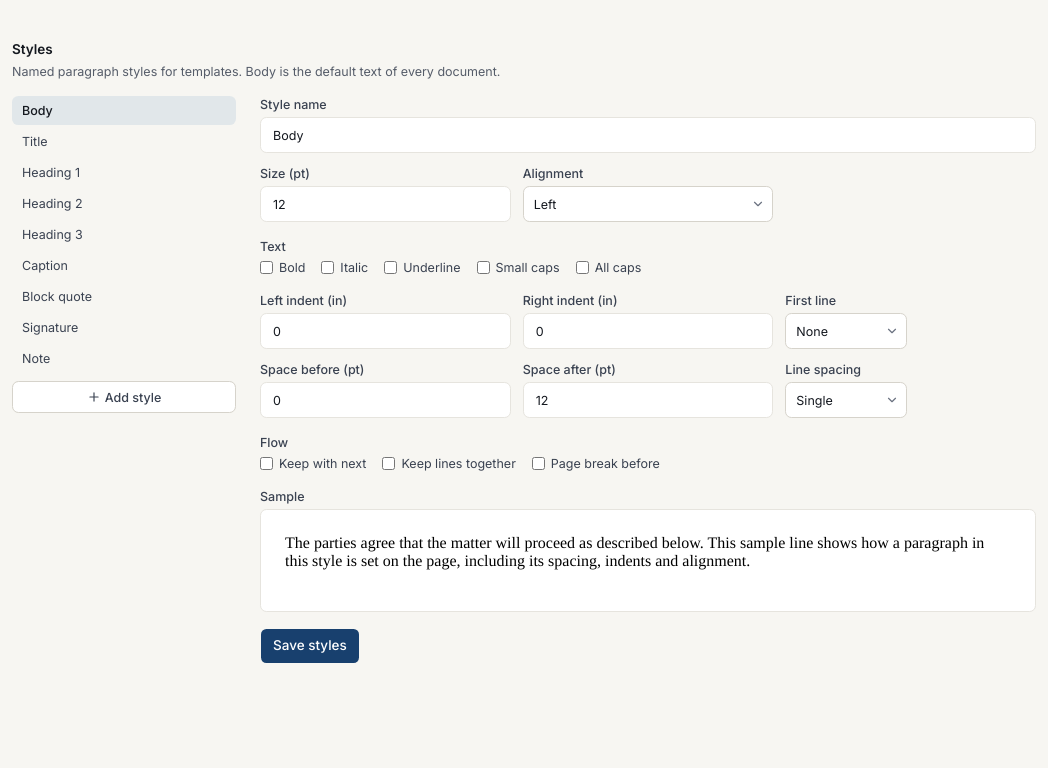
it: ParagraphStylesForm › renames built-in and custom styles
The image size is (1048, 768).
Step 1. Replace the text in the field labelled "Style name" with "Main text" → (648,135), box [260, 117, 1036, 153]
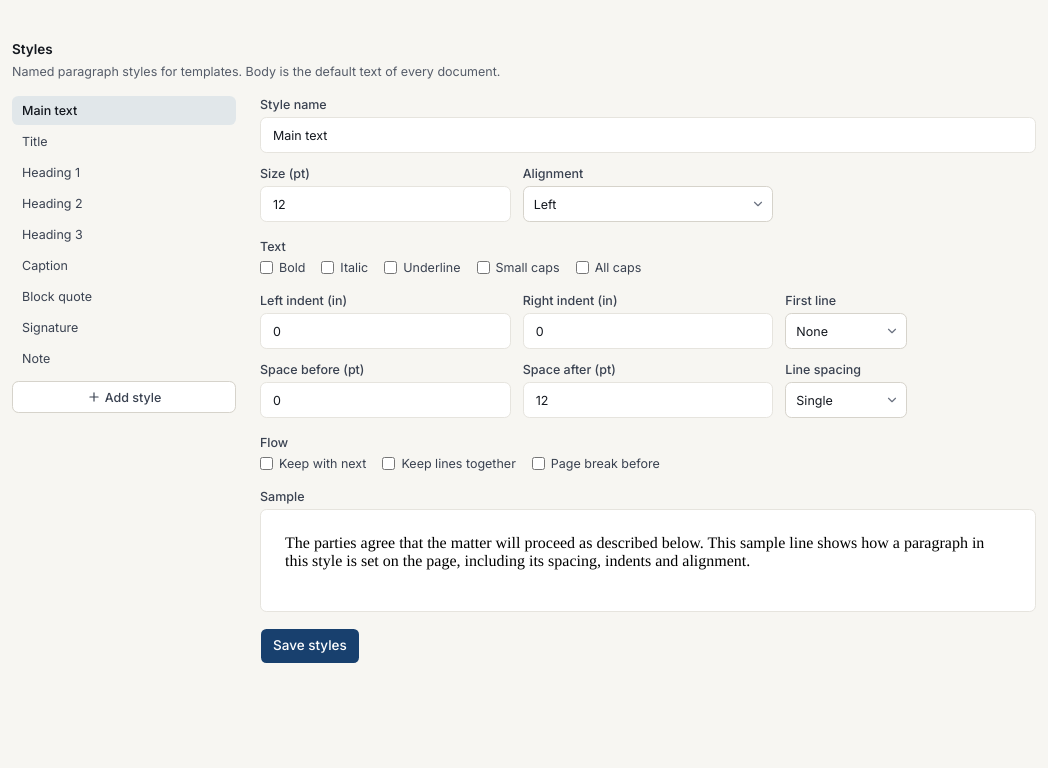
Expected: the button "Main text" is shown, [12, 96, 236, 125]
Step 2. Click the button "Note" → (124,358), box [12, 344, 236, 373]
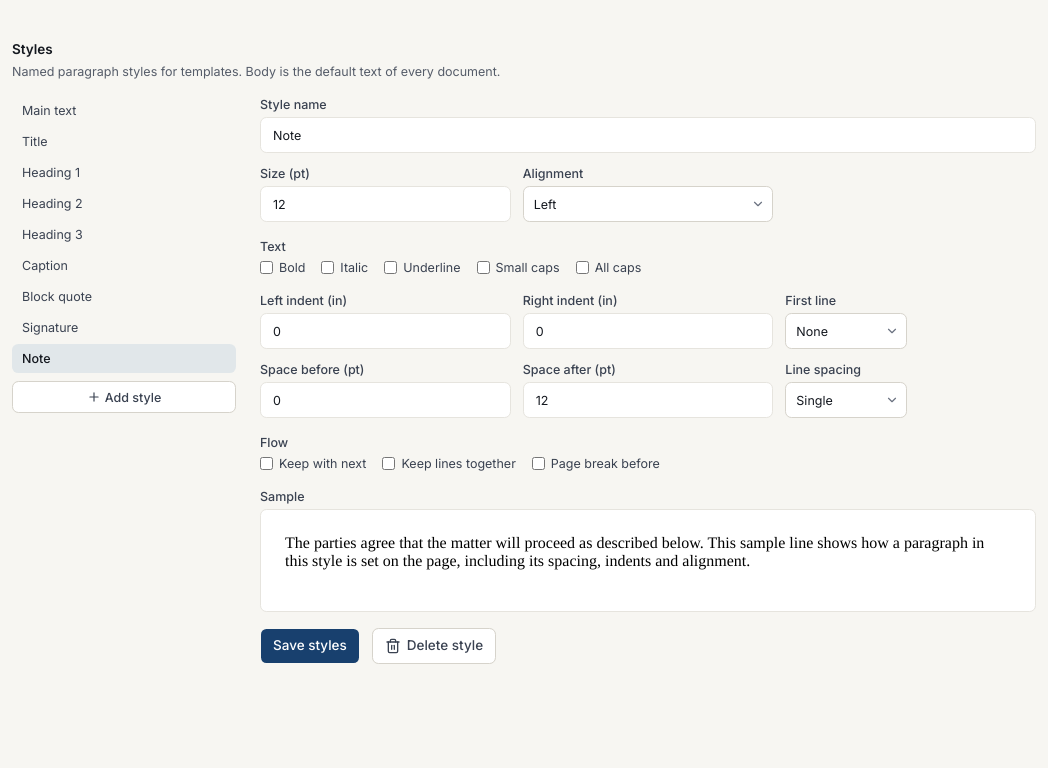
Step 3. Replace the text in the field labelled "Style name" with "Aside" → (648,135), box [260, 117, 1036, 153]
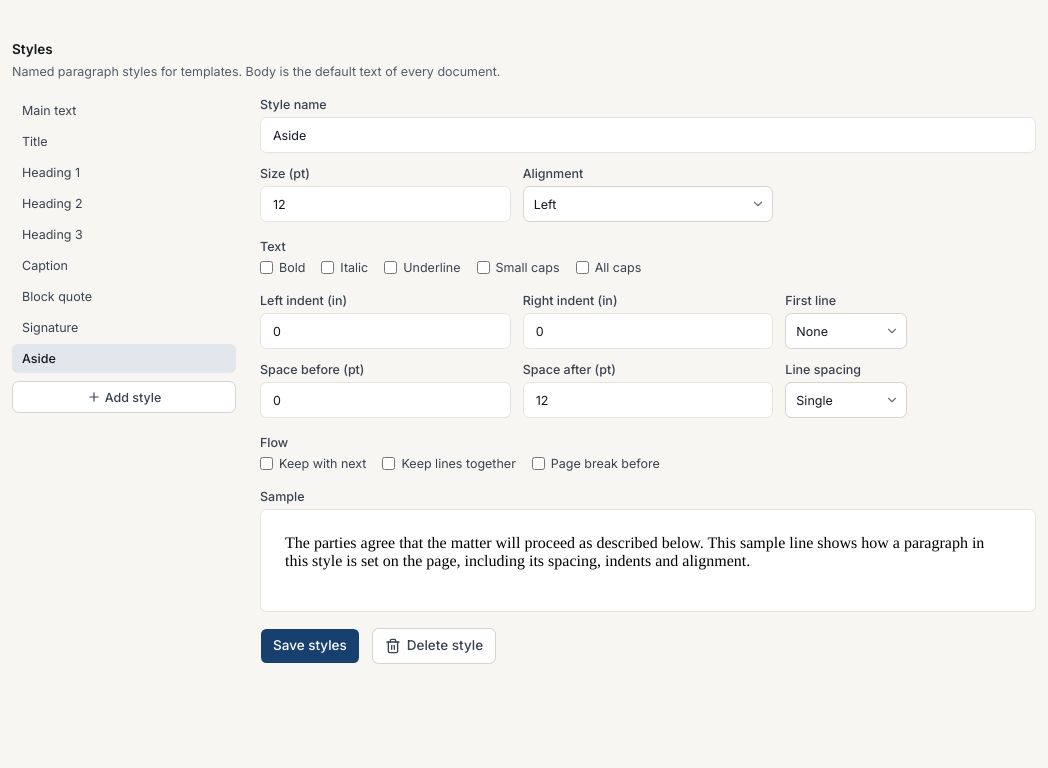
Expected: the button "Aside" is shown, [12, 344, 236, 373]
